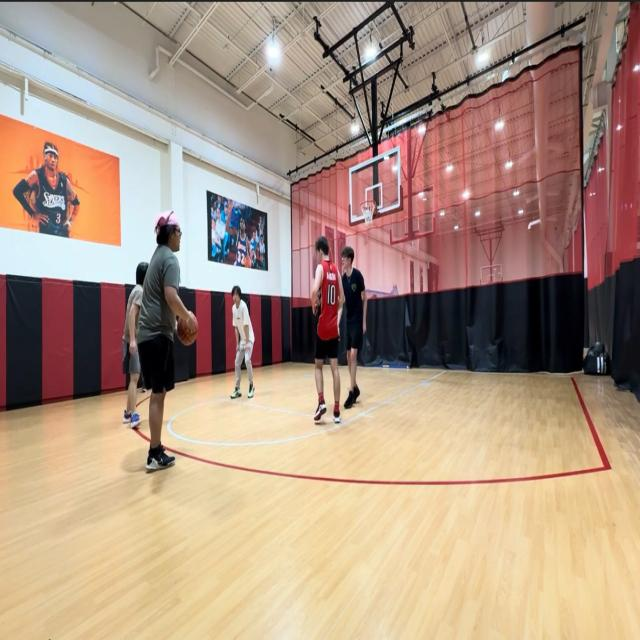Basketball: (176, 310, 198, 346)
Basketball Rim: (361, 200, 375, 225)
Player: (138, 209, 198, 472), (311, 236, 345, 424), (123, 261, 148, 429), (342, 247, 366, 410), (230, 286, 256, 398)
